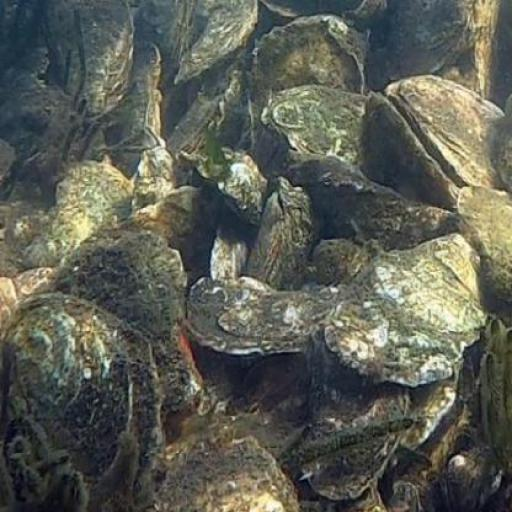Oyster-Closed: (18, 293, 164, 507), (334, 236, 490, 383), (286, 165, 458, 255), (389, 75, 507, 192), (194, 270, 338, 355), (152, 440, 301, 512), (360, 98, 452, 211), (262, 89, 369, 164), (247, 179, 320, 286), (460, 184, 512, 298)
